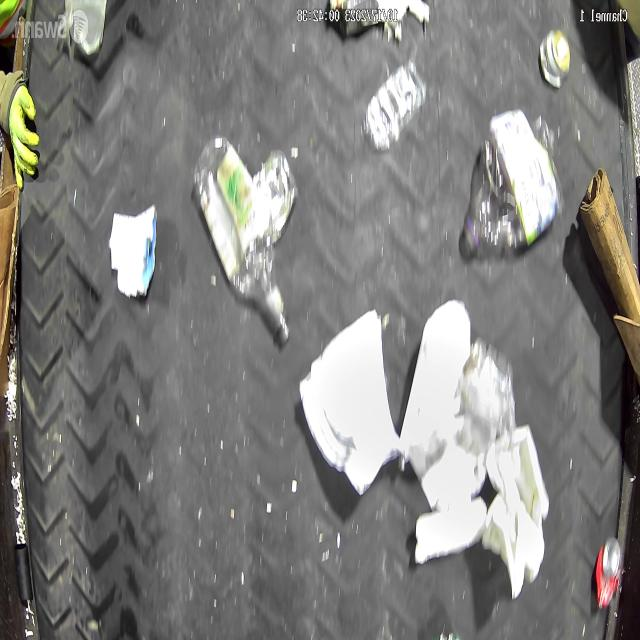can: (66, 0, 106, 62), (537, 30, 570, 89), (595, 538, 621, 610)
plastic_bottle: (192, 134, 291, 342), (461, 112, 560, 257)
